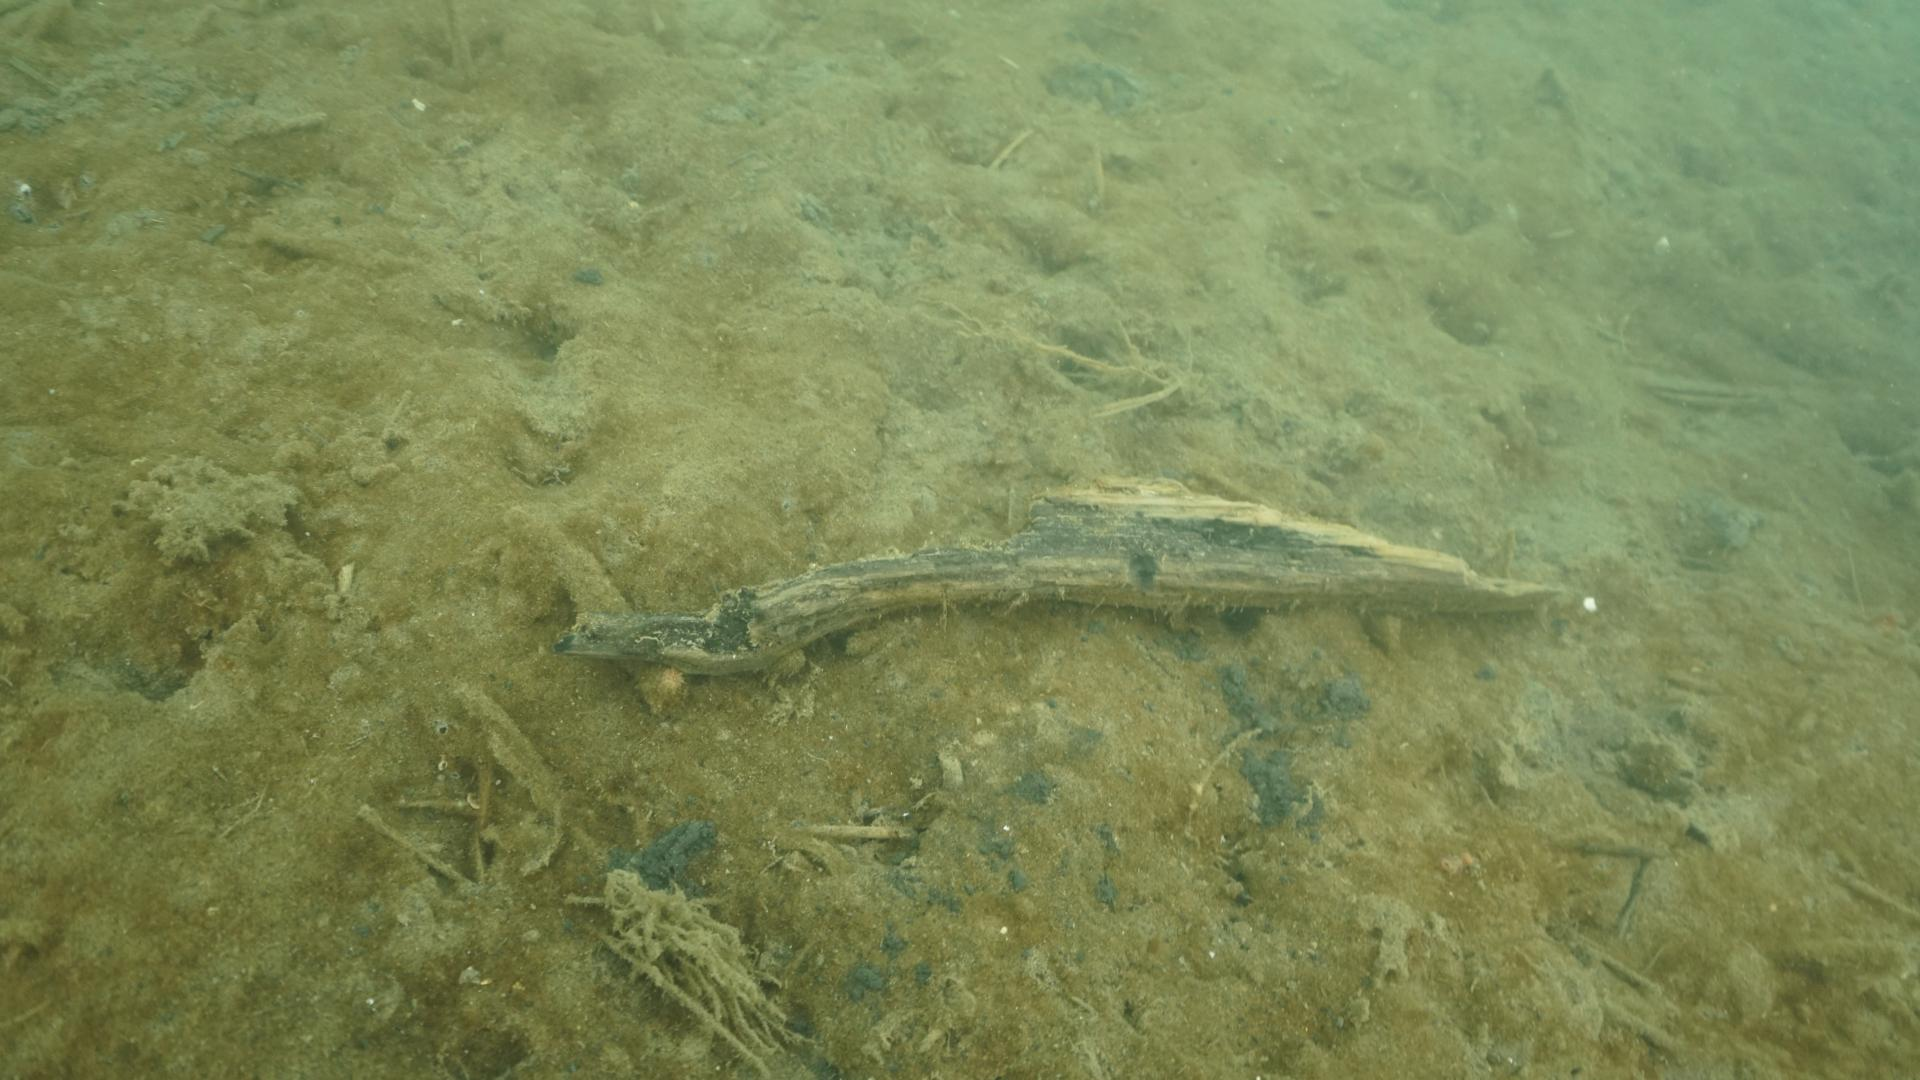wood: (549, 472, 1560, 675)
